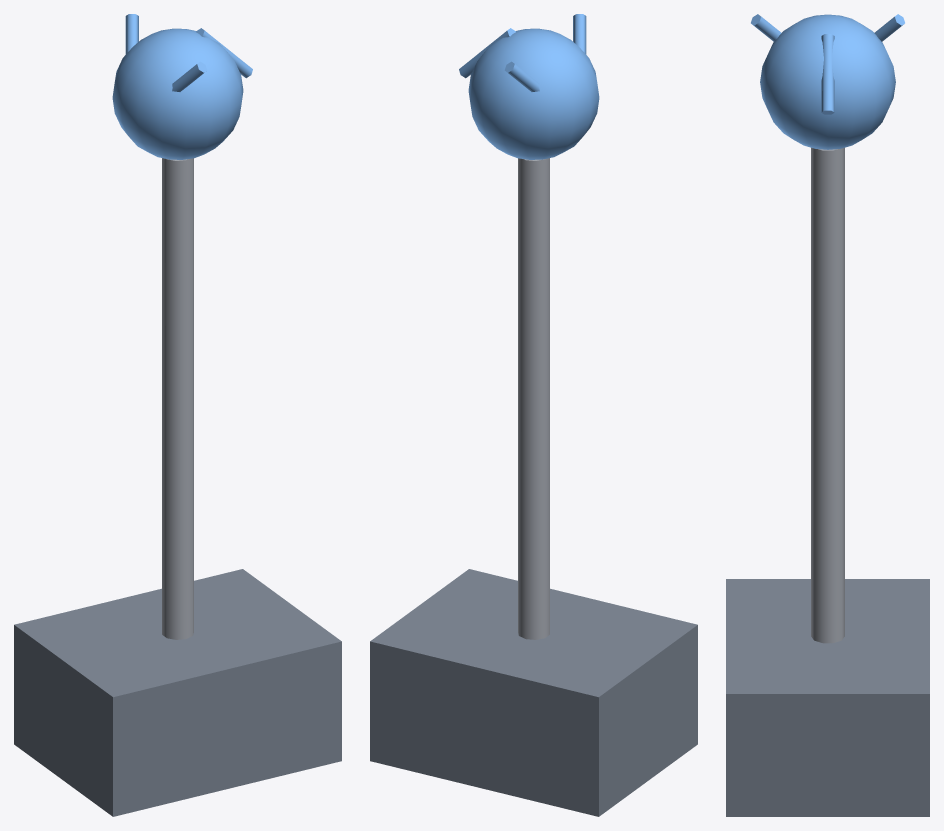
Rendered from rf_sensor.glb.
The picture shows the model from 3 angles, left to right: view 1: azimuth 30°, elevation 25°; view 2: azimuth 150°, elevation 25°; view 3: azimuth 270°, elevation 25°; orthographic projection. The views are drawn at different scales.
Bounding box in the file's own units: 0.4 × 1.2 × 0.3.
